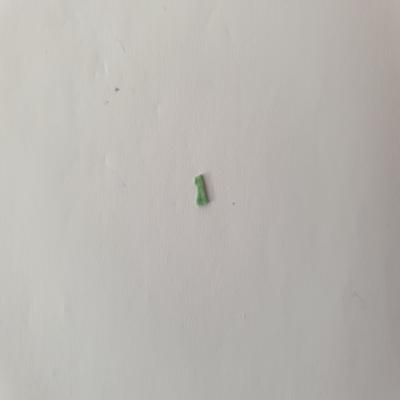plastic: (189, 170, 219, 213)
